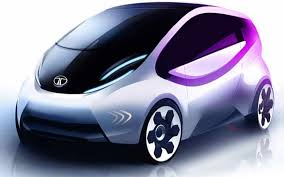Nano: (15, 1, 275, 165)
